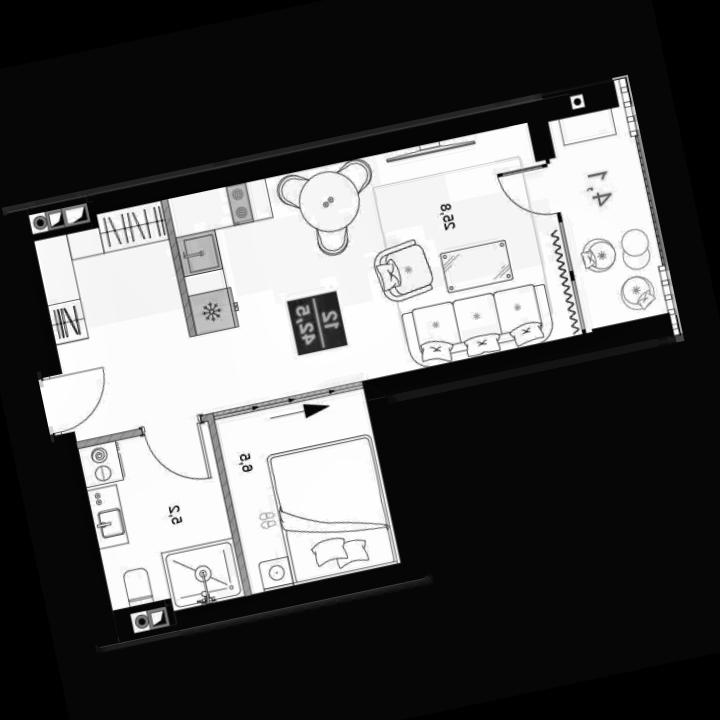door: (135, 410, 216, 494), (36, 361, 118, 442), (492, 156, 566, 228)
window: (548, 216, 576, 274), (564, 274, 590, 334)
